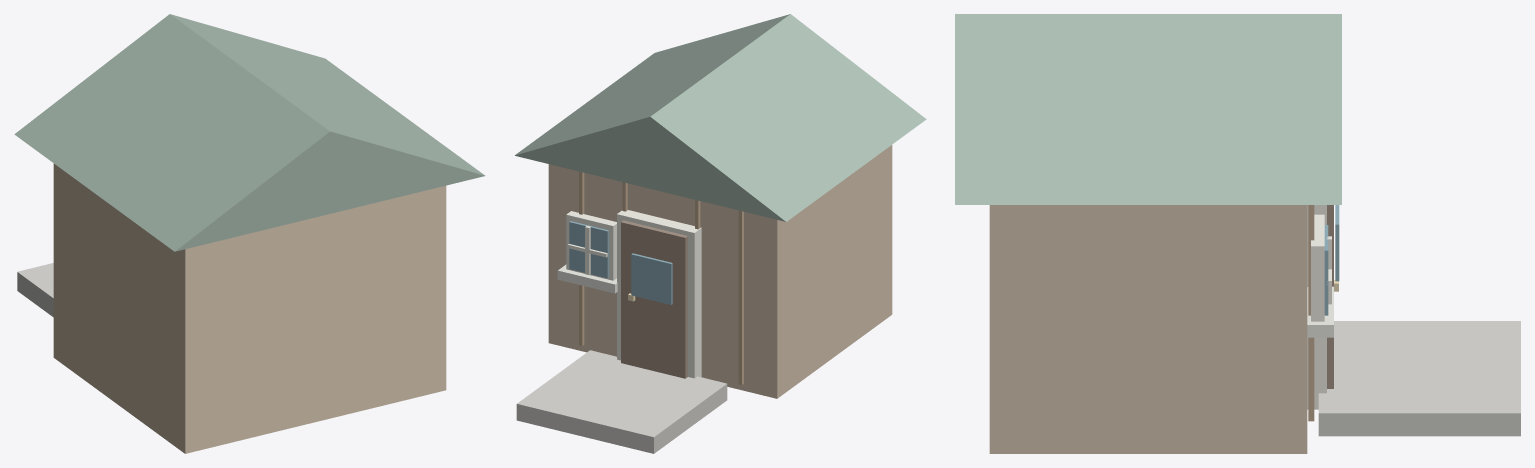
Rendered from Shed_Garden.glb.
3 views of the same model, side by side, from view 1: azimuth 30°, elevation 25°; view 2: azimuth 150°, elevation 25°; view 3: azimuth 270°, elevation 25° (orthographic). The views are drawn at different scales.
Parts seen in each view (by area): view 1: 000_shed_shell_000, 001_gable_roof_001, 006_stoop_006; view 2: 001_gable_roof_001, 000_shed_shell_000, 006_stoop_006, 003_door_003, 002_door_trim_002, 005_door_glazing_005, 008_window_glass_008, 007_window_trim_007, 012_wood_planks_012, 011_sill_011, 015_wood_planks_015; view 3: 000_shed_shell_000, 001_gable_roof_001, 006_stoop_006, 007_window_trim_007, 002_door_trim_002, 015_wood_planks_015, 011_sill_011, 003_door_003.
Part boxes in pixels (bbox=[...]): 000_shed_shell_000: bbox=[53, 163, 446, 453]; 001_gable_roof_001: bbox=[14, 14, 485, 251]; 006_stoop_006: bbox=[17, 263, 53, 317]; 001_gable_roof_001: bbox=[515, 14, 926, 221]; 000_shed_shell_000: bbox=[548, 145, 892, 398]; 006_stoop_006: bbox=[516, 350, 727, 453]; 003_door_003: bbox=[621, 220, 687, 378]; 002_door_trim_002: bbox=[617, 210, 701, 378]; 005_door_glazing_005: bbox=[631, 253, 672, 304]; 008_window_glass_008: bbox=[569, 221, 608, 278]; 007_window_trim_007: bbox=[566, 211, 616, 280]; 012_wood_planks_012: bbox=[738, 210, 743, 384]; 011_sill_011: bbox=[557, 264, 617, 293]; 015_wood_planks_015: bbox=[579, 171, 584, 345]; 000_shed_shell_000: bbox=[989, 205, 1307, 453]; 001_gable_roof_001: bbox=[955, 14, 1341, 204]; 006_stoop_006: bbox=[1318, 321, 1520, 436]; 007_window_trim_007: bbox=[1311, 214, 1324, 321]; 002_door_trim_002: bbox=[1307, 205, 1326, 409]; 015_wood_planks_015: bbox=[1308, 205, 1314, 421]; 011_sill_011: bbox=[1307, 286, 1333, 337]; 003_door_003: bbox=[1327, 205, 1333, 388].
Size of the model in its own units: 3.75 by 3.6 by 4.9.
